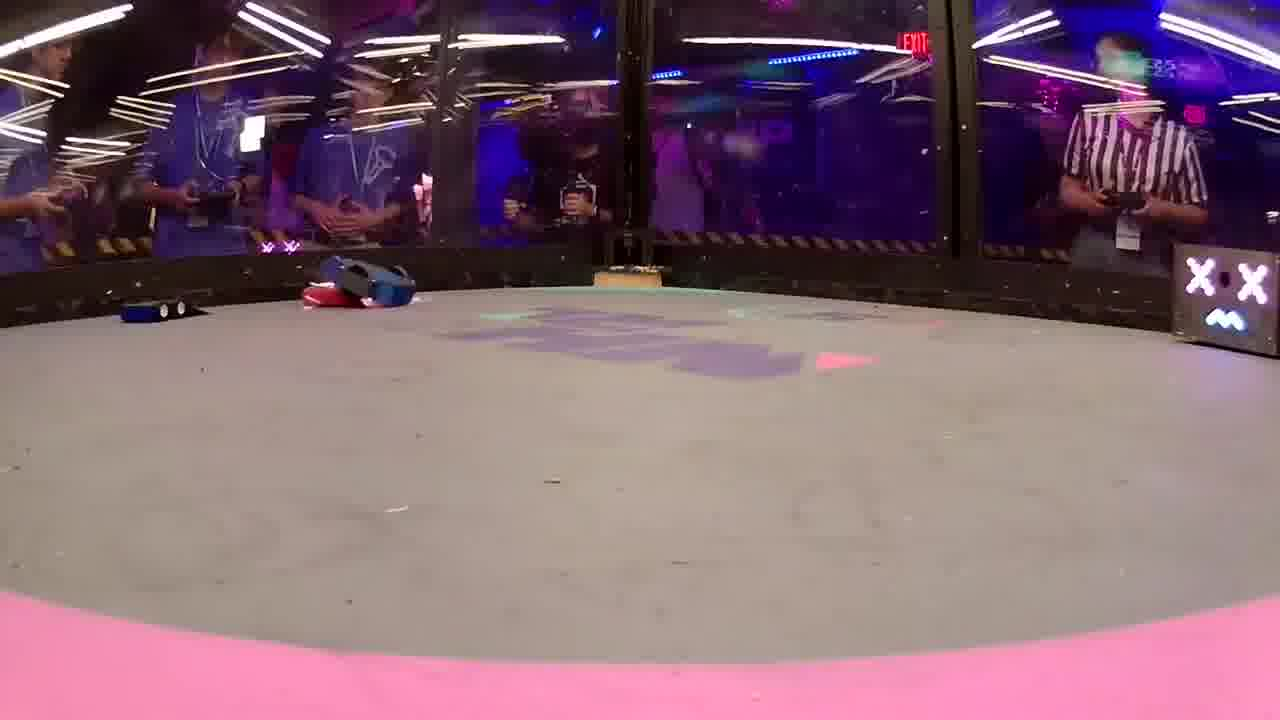combatbot: (322, 256, 418, 311), (300, 278, 375, 310)
housebot: (1169, 242, 1280, 363)
minibot: (119, 295, 211, 324)
